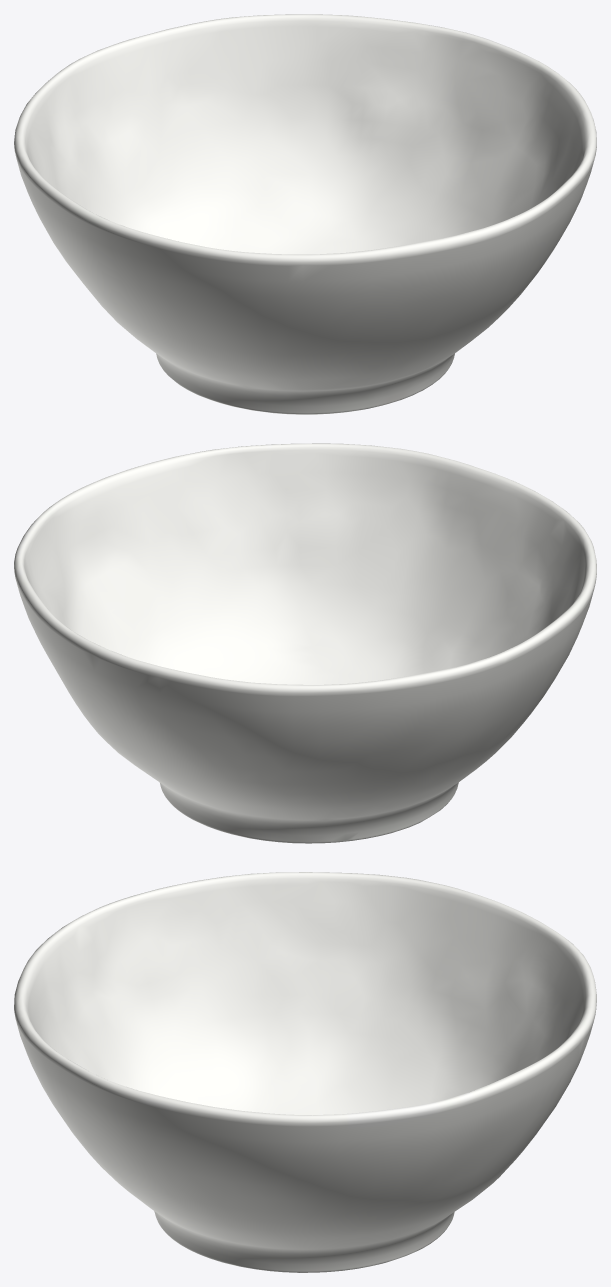
Rendered from FORELLTETRA Bol, blanc, 15 cm.glb.
3 views of the same model, one above another, from view 1: azimuth 30°, elevation 25°; view 2: azimuth 150°, elevation 25°; view 3: azimuth 270°, elevation 25° (orthographic).
Parts seen in each view (by area): view 1: ASY_ART_70622637_S01_NV01; view 2: ASY_ART_70622637_S01_NV01; view 3: ASY_ART_70622637_S01_NV01.
Boxes of the visible parts, x1,y1,x2,y2 form: ASY_ART_70622637_S01_NV01: (14,14,596,414); ASY_ART_70622637_S01_NV01: (14,443,596,843); ASY_ART_70622637_S01_NV01: (14,872,596,1272).
Size of the model in its own units: 0.1444 by 0.0595 by 0.1436.
2 materials, 2 textured.
